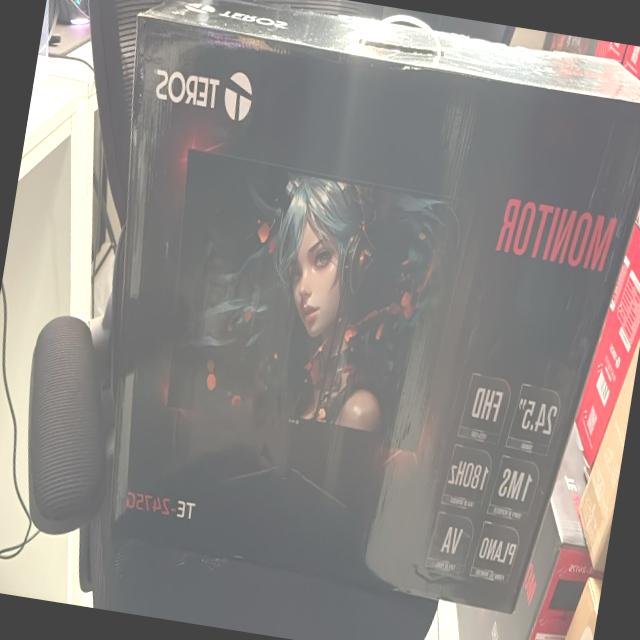caja-monitor: (112, 0, 640, 611)
